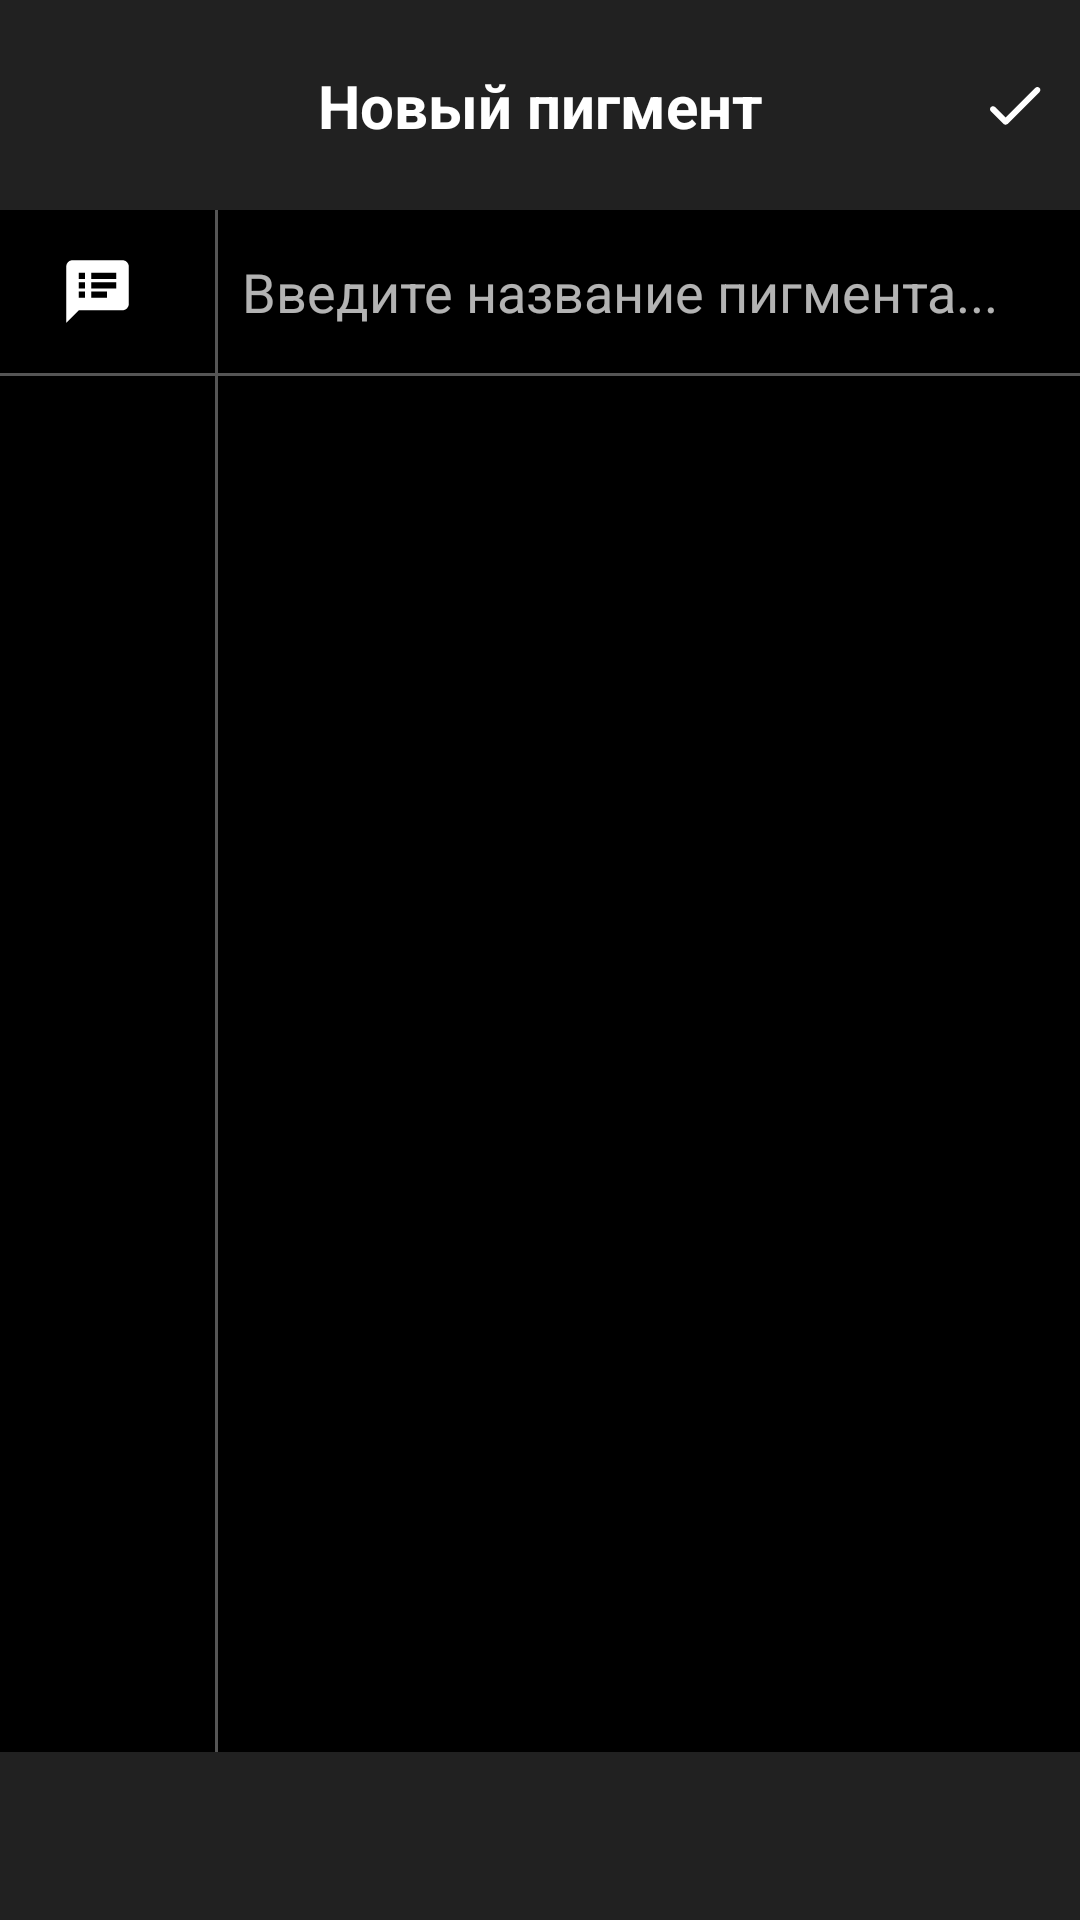

Icon bounding boxes for this 1080x1920 phone screenshot, format BBox(x1, y1, x2, y2):
done: BBox(990, 87, 1041, 125)
remarks: BBox(66, 260, 129, 323)
